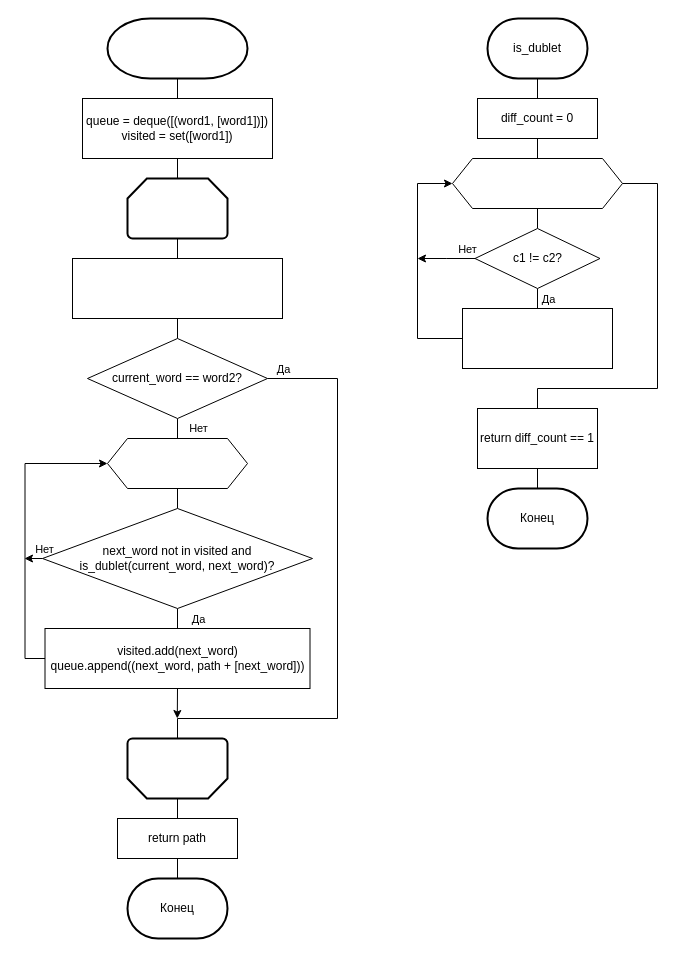
Some shapes in this 676 by 956 pixel diagram are drawn without their labels. Each missing label, with the box of its shape:
c1, c2 in zip(word1, word2): (452, 158, 622, 208)
current_word, path = queue.popleft(): (72, 258, 282, 318)
diff_count = diff_count + 1: (462, 308, 612, 368)
find_dublet_sequence: (106, 17, 248, 79)
next_word in dictionary: (106, 438, 248, 488)
queue: (126, 177, 228, 239)
